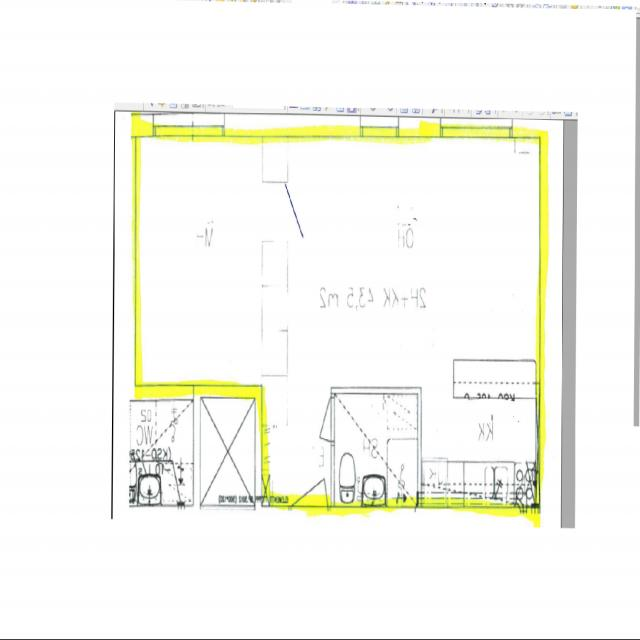door: (291, 508, 328, 585), (291, 443, 328, 519), (284, 183, 321, 240), (306, 398, 335, 441)
